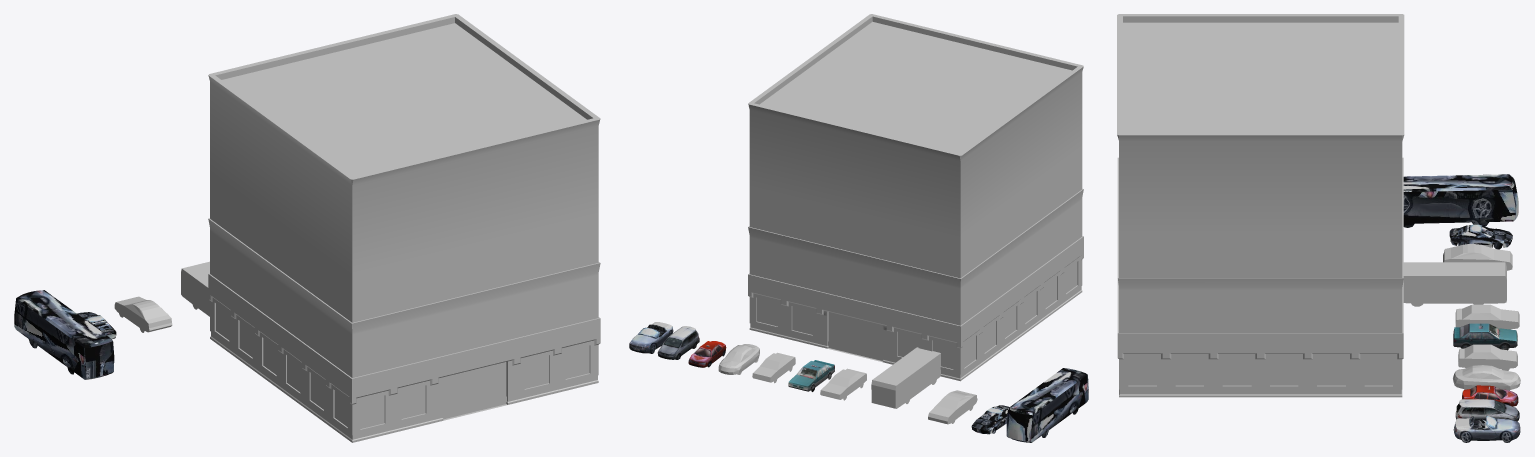
The model's file is ceshi.FBX.
The picture shows the model from 3 angles, left to right: view 1: azimuth 30°, elevation 25°; view 2: azimuth 150°, elevation 25°; view 3: azimuth 270°, elevation 25°; orthographic projection. The views are drawn at different scales.
Visible parts, largest first — view 1: StyleB-Building1, yzh-qc-105, guomao-li-, yzh-qc-100; view 2: StyleB-Building1, yzh-qc-105, yzh-qc-100, guomao-li-, yzh-qc-102, yzh-qc-101, yzh-qc-891, yzh-qc-887, guomao-li0, guomao-li1, yzh-qc-104, yzh-qc-716; view 3: StyleB-Building1, yzh-qc-105, yzh-qc-100, yzh-qc-887, yzh-qc-102, guomao-li0, yzh-qc-101, guomao-li1, yzh-qc-104, guomao-li-, yzh-qc-891, yzh-qc-716.
Boxes of the visible parts, x1,y1,x2,y2 form: StyleB-Building1: (208,14,600,442); yzh-qc-105: (14,290,114,379); guomao-li-: (114,296,172,332); yzh-qc-100: (181,261,209,316); StyleB-Building1: (748,14,1083,381); yzh-qc-105: (1006,368,1088,442); yzh-qc-100: (871,347,940,408); guomao-li-: (928,390,977,424); yzh-qc-102: (788,360,834,391); yzh-qc-101: (820,368,866,400); yzh-qc-891: (657,326,699,359); yzh-qc-887: (629,322,673,353); guomao-li0: (718,344,759,374); guomao-li1: (752,352,795,383); yzh-qc-104: (971,405,1009,434); yzh-qc-716: (688,341,726,367); StyleB-Building1: (1117,14,1404,397); yzh-qc-105: (1403,174,1518,227); yzh-qc-100: (1403,262,1506,306); yzh-qc-887: (1453,415,1520,442); yzh-qc-102: (1453,323,1517,350); guomao-li0: (1453,365,1520,390); yzh-qc-101: (1455,304,1519,329); guomao-li1: (1458,344,1517,370); yzh-qc-104: (1449,224,1512,249); guomao-li-: (1443,244,1512,270); yzh-qc-891: (1455,399,1519,421); yzh-qc-716: (1462,385,1518,406).
Size of the model in its own units: 4022 by 2183 by 2993.
